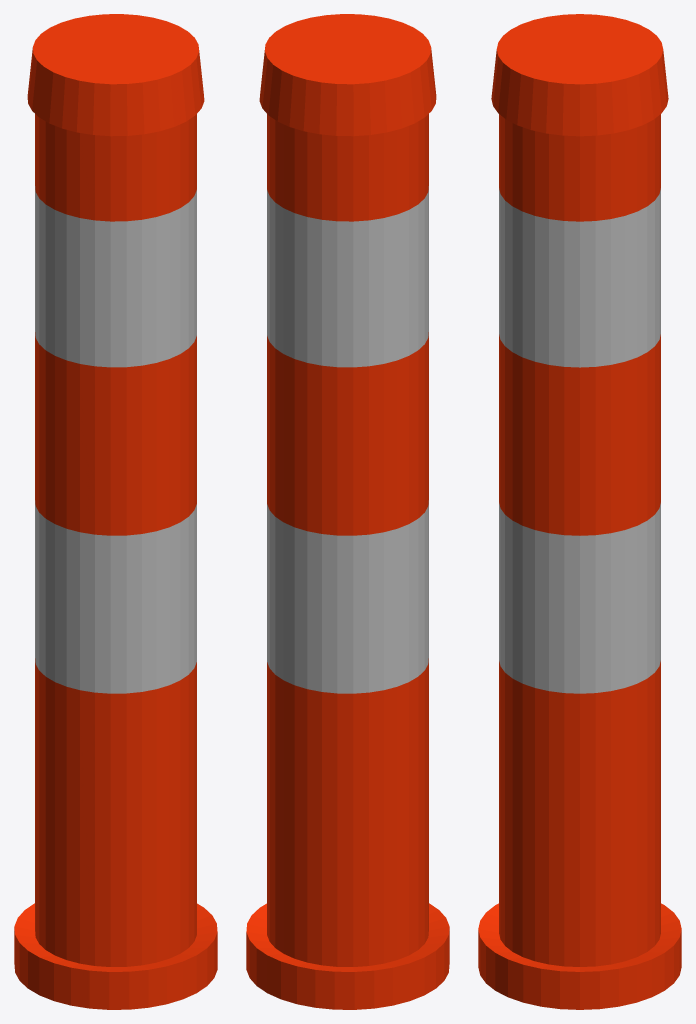
File: road_block_pole.obj
3 renders of one model, left to right at view 1: azimuth 30°, elevation 25°; view 2: azimuth 150°, elevation 25°; view 3: azimuth 270°, elevation 25°, orthographic.
Visible parts, largest first — view 1: Cylinder; view 2: Cylinder; view 3: Cylinder.
Part boxes in pixels (left/top/right/bottom): Cylinder: left=14, top=14, right=217, bottom=1009; Cylinder: left=246, top=14, right=449, bottom=1009; Cylinder: left=478, top=14, right=681, bottom=1009.
Size of the model in its own units: 0.2103 by 1.05 by 0.2103.
